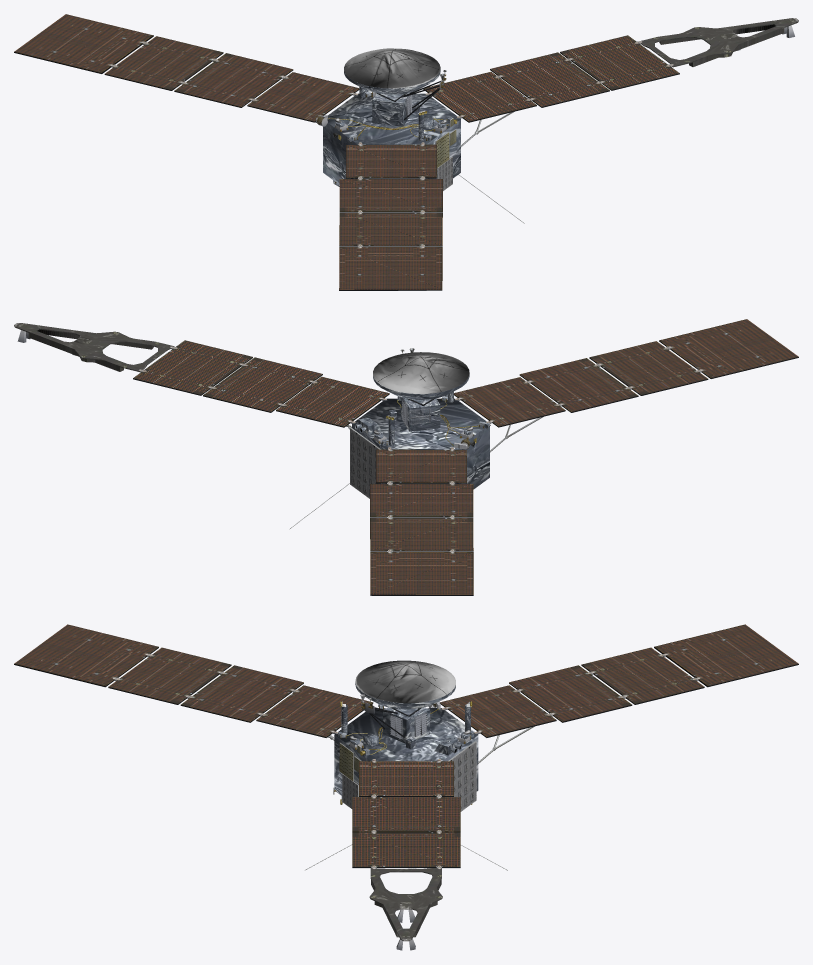
Rendered from juno-probe.glb.
3 renders of one model, top to bottom at view 1: azimuth 30°, elevation 25°; view 2: azimuth 150°, elevation 25°; view 3: azimuth 270°, elevation 25°, orthographic. The views are drawn at different scales.
Parts seen in each view (by area): view 1: shiny_panels_Geometry-Body.021, silver_foil_Geometry-Body.002, dish_top_Geometry-Mesh.002, solar_panels_Geometry-Body.006, black_krinkle_Geometry-Body.007, tex_01_Geometry-Body.003, dish_bottom_Geometry-Mesh; view 2: shiny_panels_Geometry-Body.021, silver_foil_Geometry-Body.002, dish_top_Geometry-Mesh.002, tex_01_Geometry-Body.003, solar_panels_Geometry-Body.006, black_krinkle_Geometry-Body.007; view 3: shiny_panels_Geometry-Body.021, silver_foil_Geometry-Body.002, tex_01_Geometry-Body.003, dish_top_Geometry-Mesh.002, solar_panels_Geometry-Body.006, black_krinkle_Geometry-Body.007.
Boxes of the visible parts, left/top/right/bottom form: shiny_panels_Geometry-Body.021: left=14, top=14, right=679, bottom=289; silver_foil_Geometry-Body.002: left=323, top=87, right=460, bottom=186; dish_top_Geometry-Mesh.002: left=344, top=48, right=440, bottom=88; solar_panels_Geometry-Body.006: left=398, top=18, right=798, bottom=290; black_krinkle_Geometry-Body.007: left=14, top=35, right=679, bottom=290; tex_01_Geometry-Body.003: left=110, top=25, right=794, bottom=247; dish_bottom_Geometry-Mesh: left=344, top=69, right=440, bottom=94; shiny_panels_Geometry-Body.021: left=133, top=319, right=798, bottom=594; silver_foil_Geometry-Body.002: left=352, top=391, right=490, bottom=489; dish_top_Geometry-Mesh.002: left=373, top=352, right=469, bottom=393; tex_01_Geometry-Body.003: left=17, top=330, right=702, bottom=552; solar_panels_Geometry-Body.006: left=14, top=323, right=371, bottom=595; black_krinkle_Geometry-Body.007: left=133, top=340, right=798, bottom=595; shiny_panels_Geometry-Body.021: left=14, top=624, right=798, bottom=866; silver_foil_Geometry-Body.002: left=334, top=704, right=478, bottom=800; tex_01_Geometry-Body.003: left=112, top=653, right=699, bottom=950; dish_top_Geometry-Mesh.002: left=355, top=660, right=455, bottom=703; solar_panels_Geometry-Body.006: left=352, top=868, right=460, bottom=941; black_krinkle_Geometry-Body.007: left=14, top=647, right=798, bottom=867.
Bounding box in the file's own units: 19.04 × 4.59 × 20.
9 materials, 9 textured.
